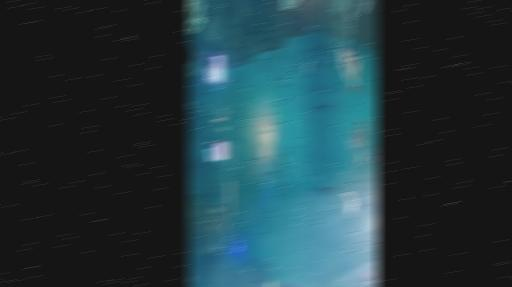Fish: (339, 48, 360, 93), (355, 121, 366, 147), (342, 192, 355, 214), (352, 148, 363, 167), (350, 128, 359, 148), (282, 0, 296, 9), (370, 144, 377, 162), (362, 0, 370, 14), (274, 170, 283, 182), (275, 154, 282, 169), (281, 147, 288, 159), (305, 57, 310, 73), (260, 59, 265, 72), (364, 269, 371, 278), (316, 187, 335, 190), (267, 172, 272, 183), (286, 57, 291, 68), (283, 94, 288, 103), (271, 68, 276, 77), (282, 50, 287, 58), (283, 81, 288, 87), (188, 276, 193, 282), (316, 175, 321, 181), (262, 74, 267, 79), (187, 102, 192, 107), (273, 50, 276, 58), (278, 50, 280, 59), (323, 184, 328, 187), (283, 76, 286, 80), (274, 74, 275, 79)
